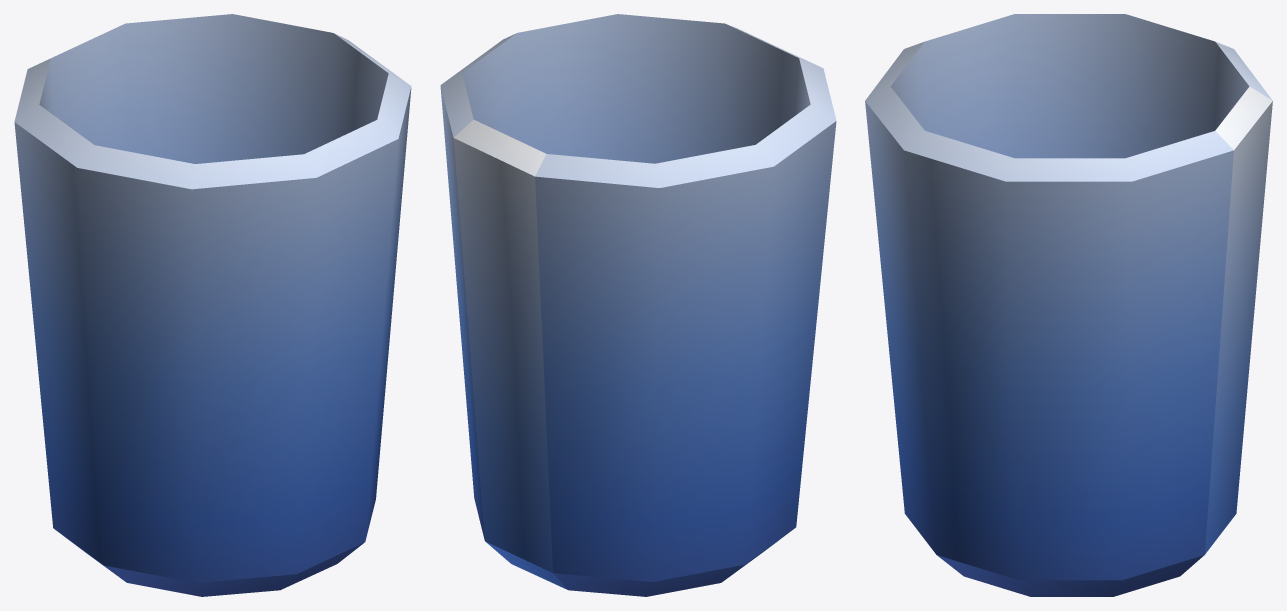
The model's file is m_Glass11.fbx.
The picture shows the model from 3 angles, left to right: view 1: azimuth 30°, elevation 25°; view 2: azimuth 150°, elevation 25°; view 3: azimuth 270°, elevation 25°; orthographic projection.
Parts seen in each view (by area): view 1: m_Glass11; view 2: m_Glass11; view 3: m_Glass11.
Part boxes in pixels (x1,y1,x2,y2): m_Glass11: (14, 14, 411, 596); m_Glass11: (440, 14, 836, 596); m_Glass11: (865, 14, 1272, 596).
Bounding box in the file's own units: 12.35 × 16 × 12.98.
